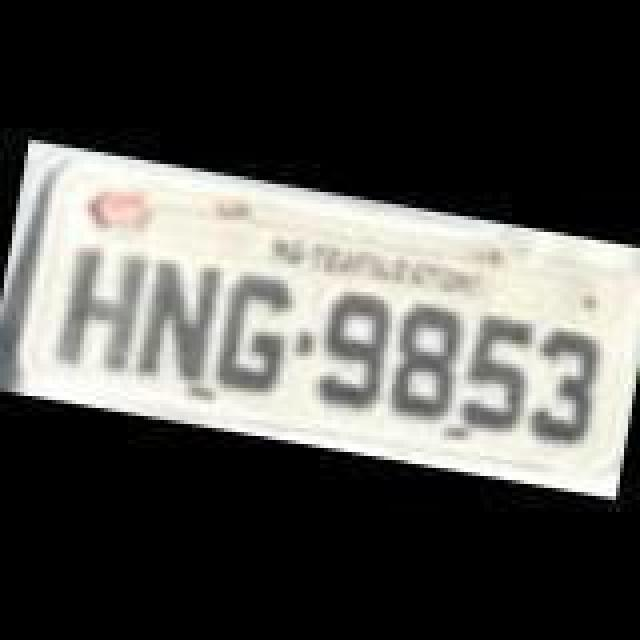3: (524, 320, 612, 448)
5: (456, 308, 544, 444)
8: (380, 298, 468, 430)
9: (306, 286, 398, 418)
G: (208, 262, 304, 402)
H: (54, 242, 154, 382)
N: (130, 250, 222, 390)
